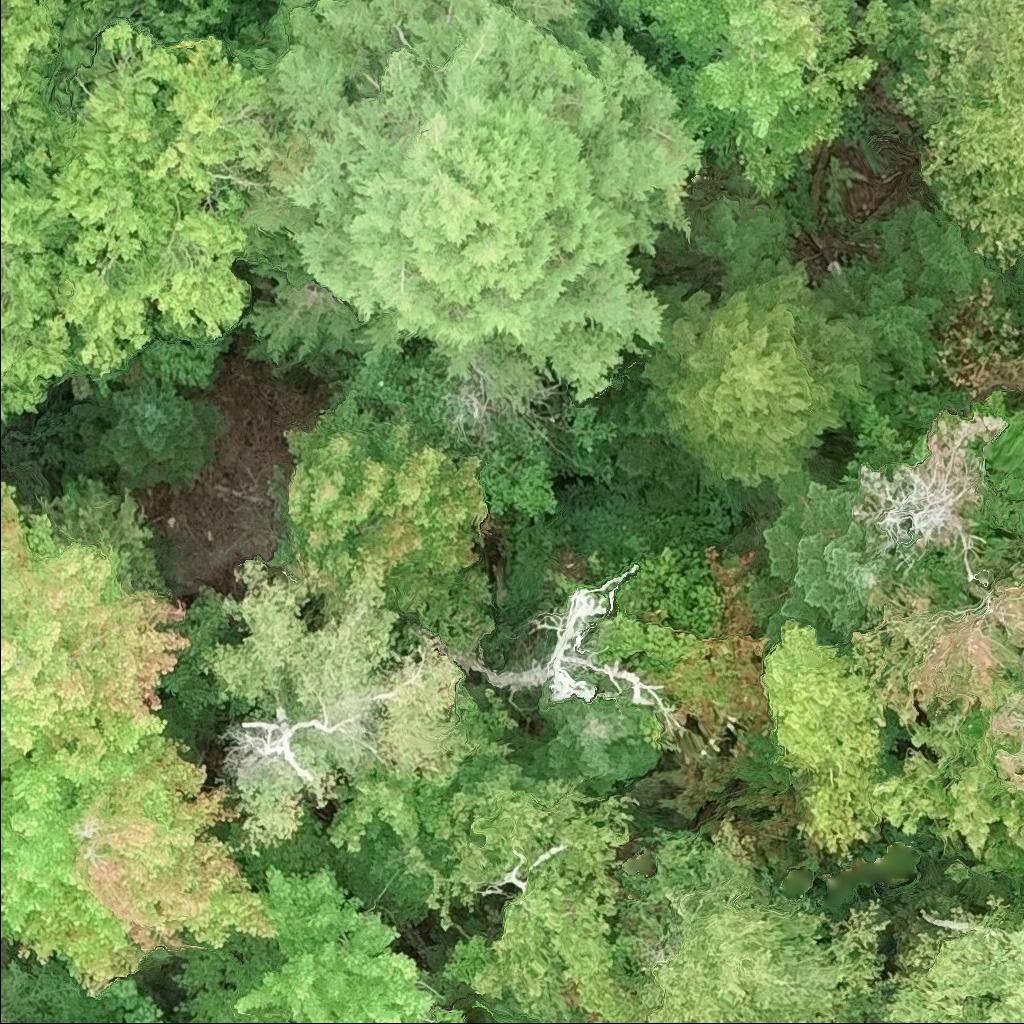crown: (239, 0, 707, 415), (0, 0, 283, 428), (0, 704, 279, 1001), (202, 558, 473, 856), (628, 250, 893, 488), (268, 395, 500, 653), (424, 776, 652, 1023), (0, 478, 191, 767), (182, 860, 442, 1023), (456, 562, 683, 731), (634, 879, 894, 1023), (888, 0, 1023, 276), (759, 618, 902, 863), (326, 682, 527, 853), (850, 576, 1023, 732), (872, 696, 1023, 872), (759, 458, 892, 654), (878, 891, 1023, 1023), (68, 374, 228, 491), (818, 251, 943, 390), (853, 453, 987, 581), (870, 196, 1005, 306), (598, 369, 709, 502), (517, 698, 662, 794), (214, 699, 361, 786), (0, 962, 57, 1023)
